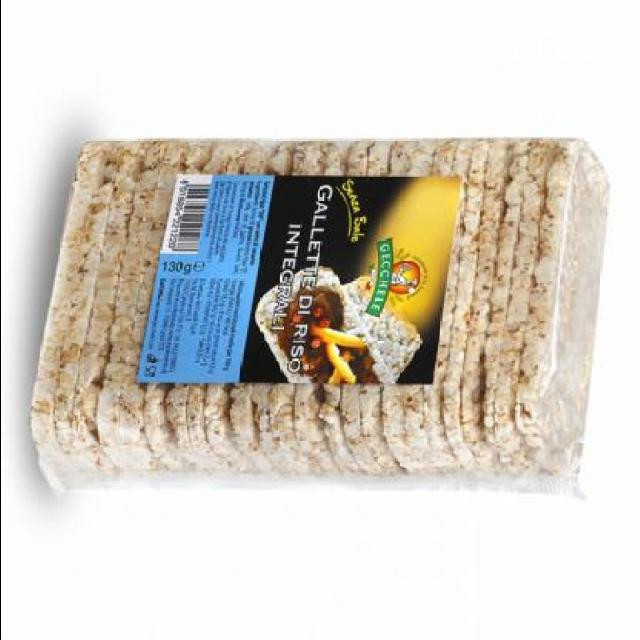Gallette di riso: (29, 129, 613, 505)
